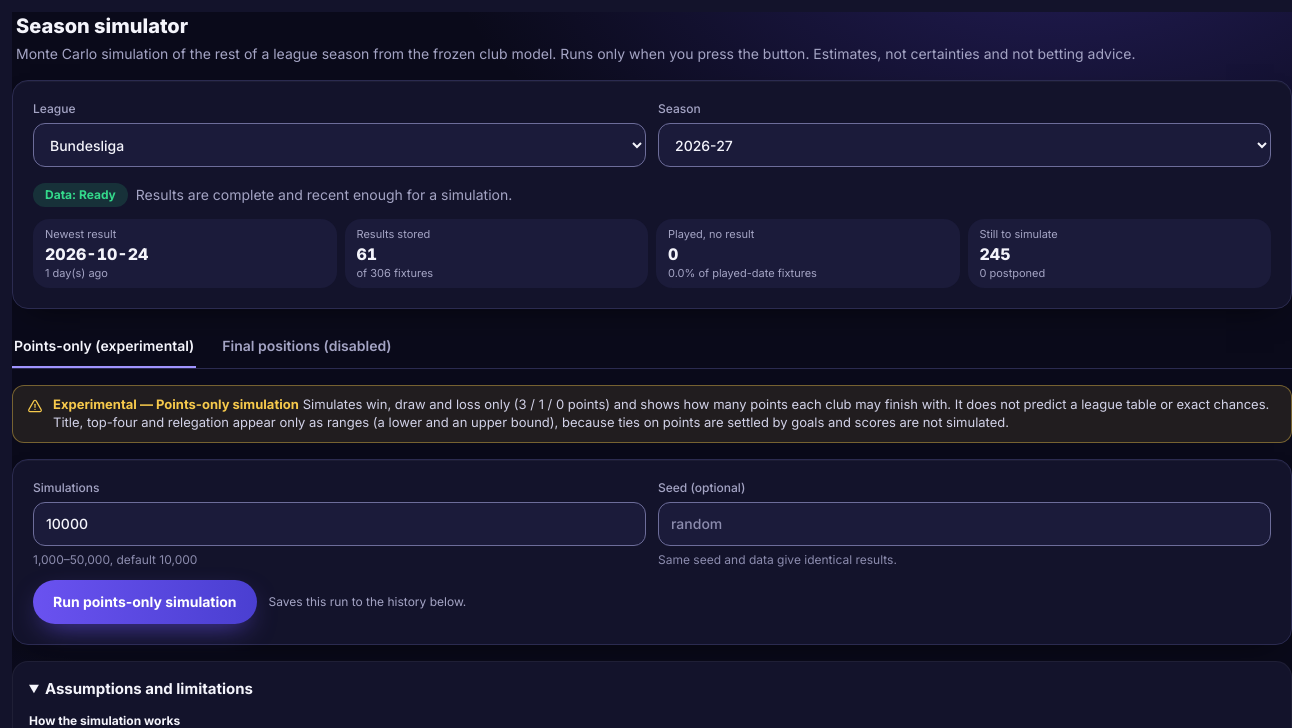
Season simulator tab › validates the number of simulations before posting
Replace the text in the number field labelled "Simulations" with "10". click: point(340, 524)
box: [33,502,646,546]
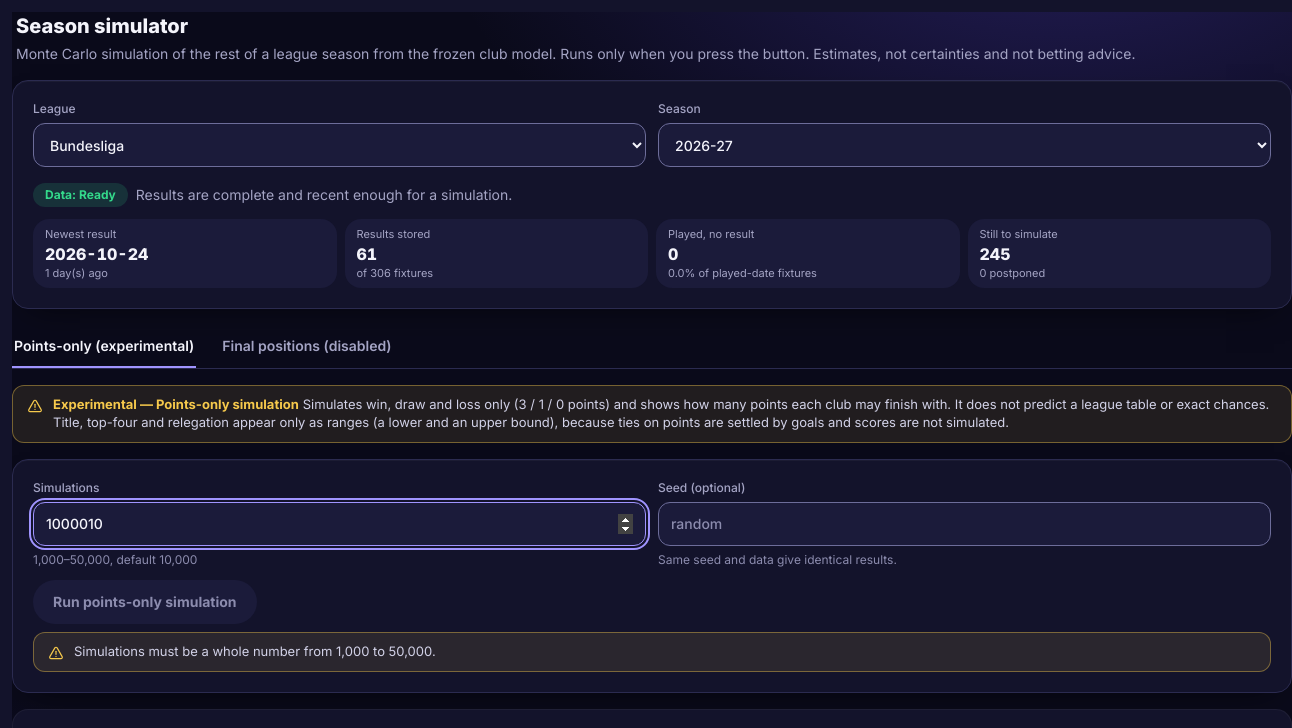
Expected: the text "Simulations must be a whole number from 1,000 to 50,000." is shown, [74,643,436,661]
Expected: the button "Run points-only simulation" is disabled, [33,580,256,624]
